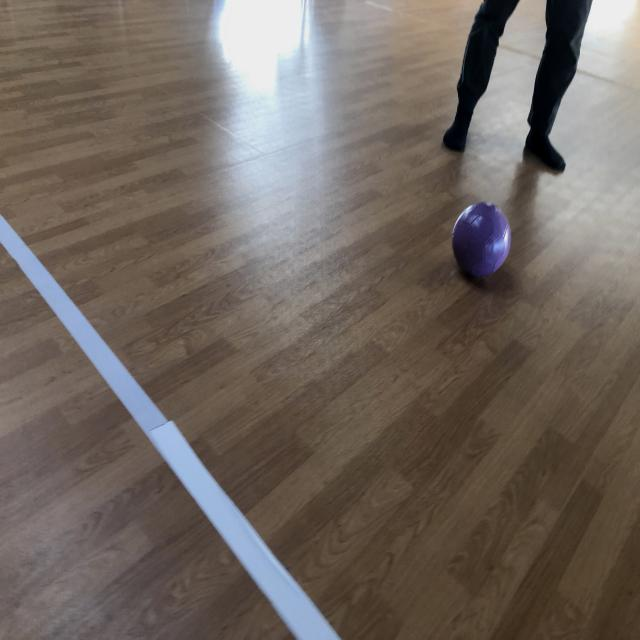purple_ball: (452, 199, 512, 279)
